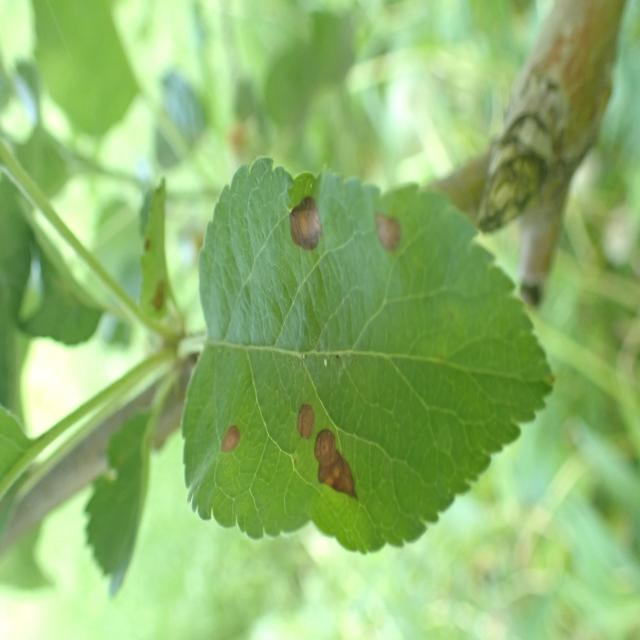frog-eye-leaf-spot: (181, 155, 556, 553)
